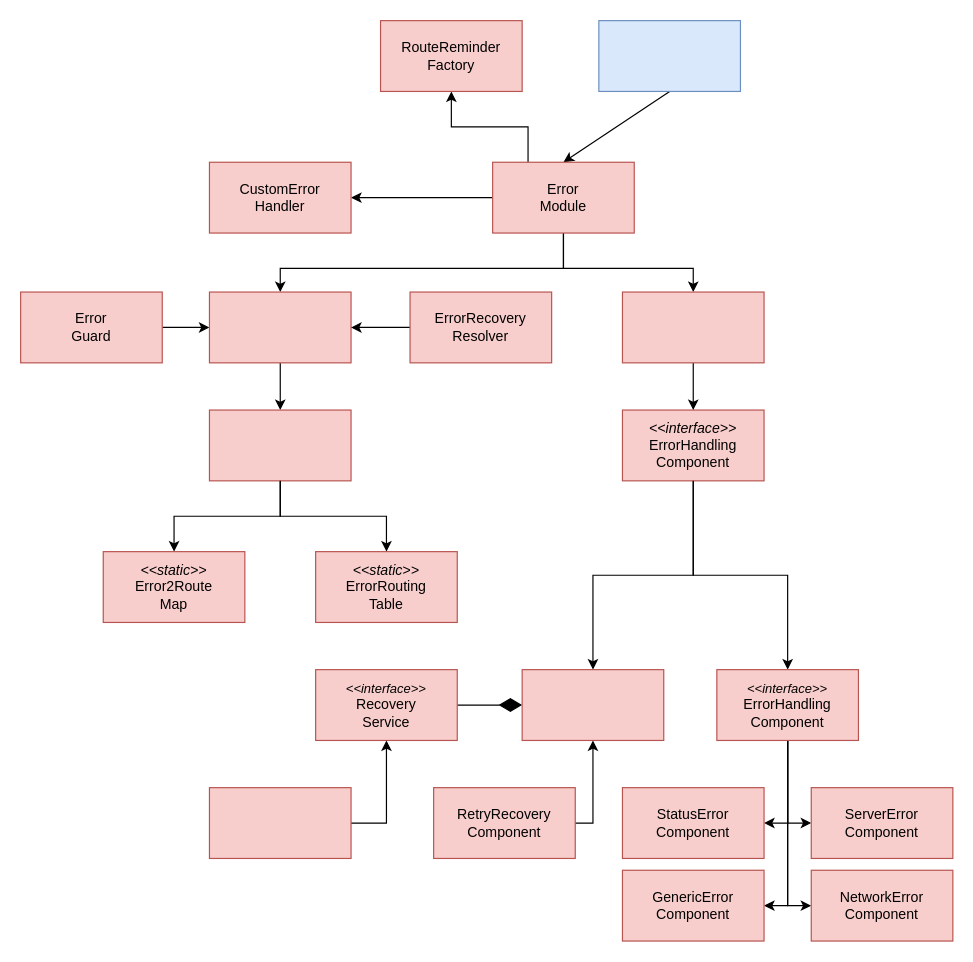
The diagram is 973 pixels wide and 962 high, and some of its shapes have lost their labels. Each missing label, with the centre of its shape:
<<interface>> Recovery Component: pixel 592 704
App Module: pixel 669 55
ErrorRoute Component: pixel 692 327
ErrorRoute Serivce (modify and resolve): pixel 279 445
ErrorRouter Module: pixel 279 327
RetryRecovery Service: pixel 279 822
